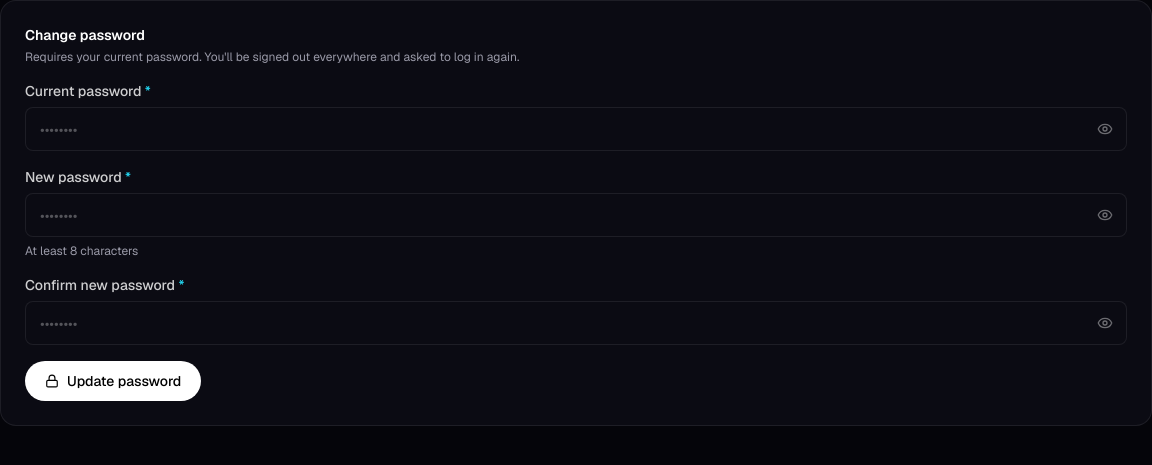
Test: ChangePasswordSection — validation › requires a current password
Type "aBrandNewPassword1" into the password field labelled "New password *" at coordinates (576, 215), box [25, 193, 1127, 237]
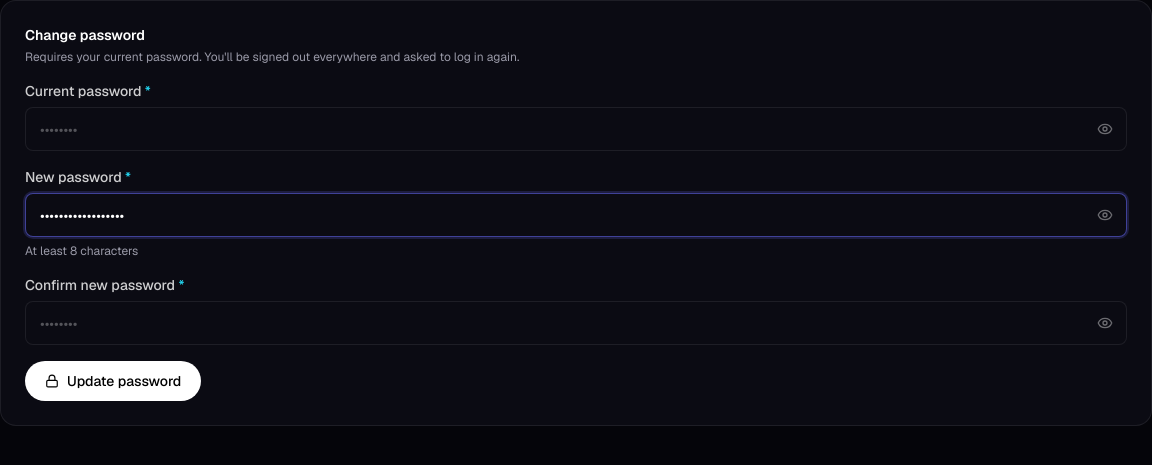
Type "aBrandNewPassword1" into the password field labelled "Confirm new password *" at coordinates (576, 323), box [25, 301, 1127, 345]
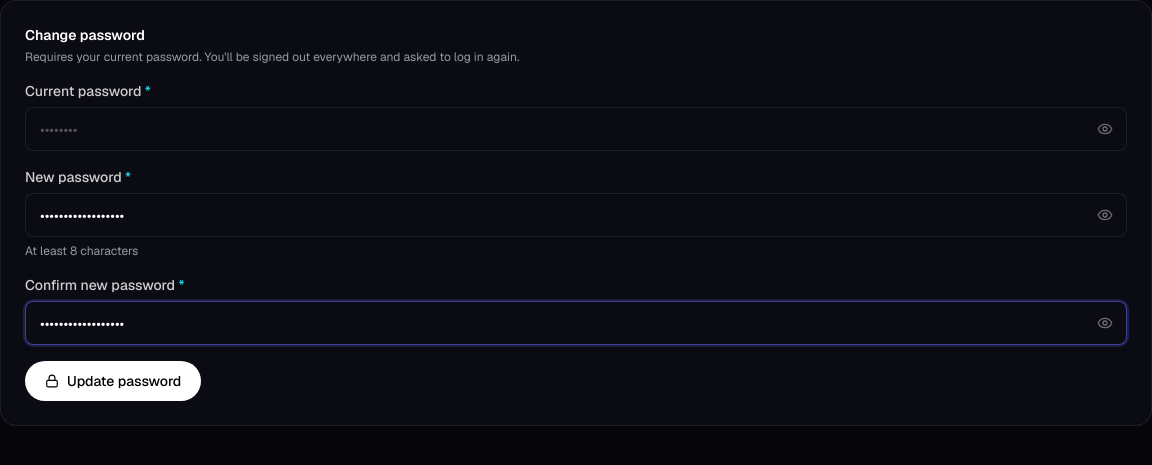
Click the button "Update password" at coordinates (113, 381), box [25, 361, 201, 401]
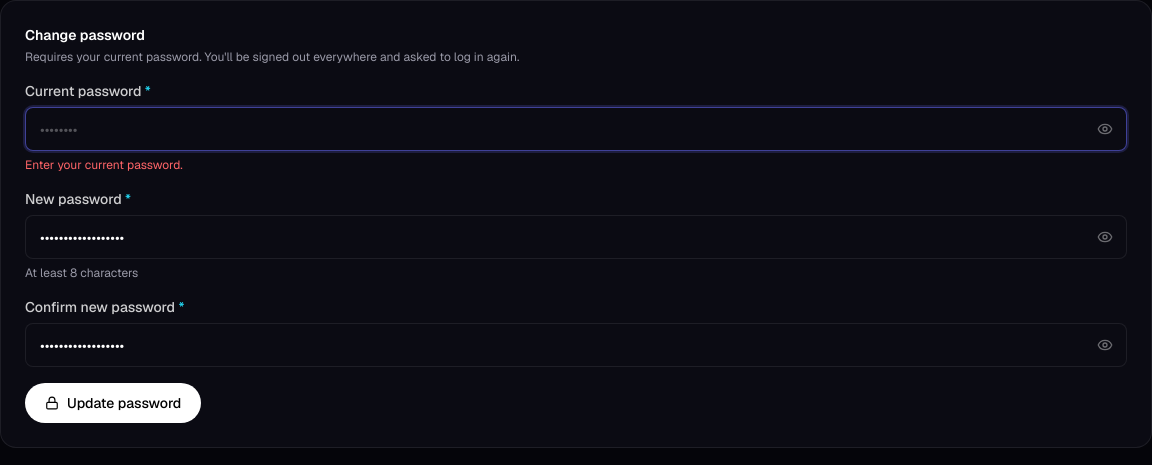
Expected: the text "Enter your current password." is shown, [25, 157, 183, 173]
